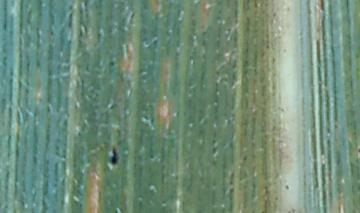tarspot: (108, 146, 118, 167), (318, 1, 327, 12), (107, 59, 116, 67), (283, 183, 290, 192)
